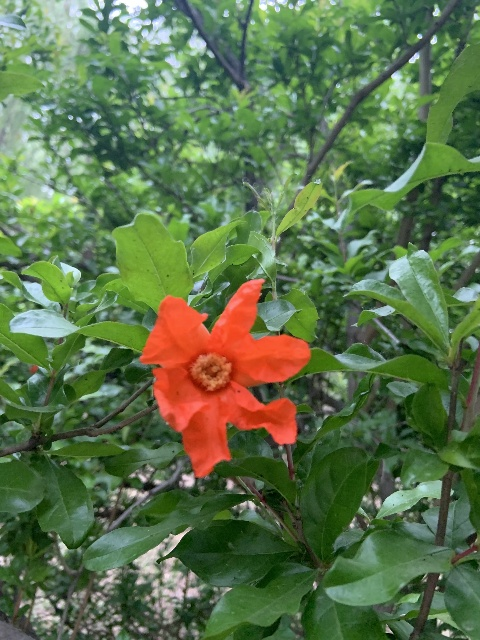flower: (139, 277, 311, 478)
